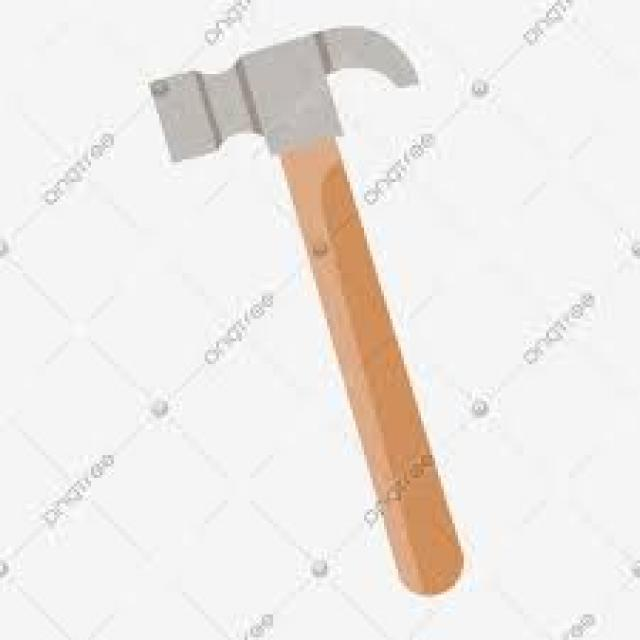hammer: (134, 14, 484, 600)
